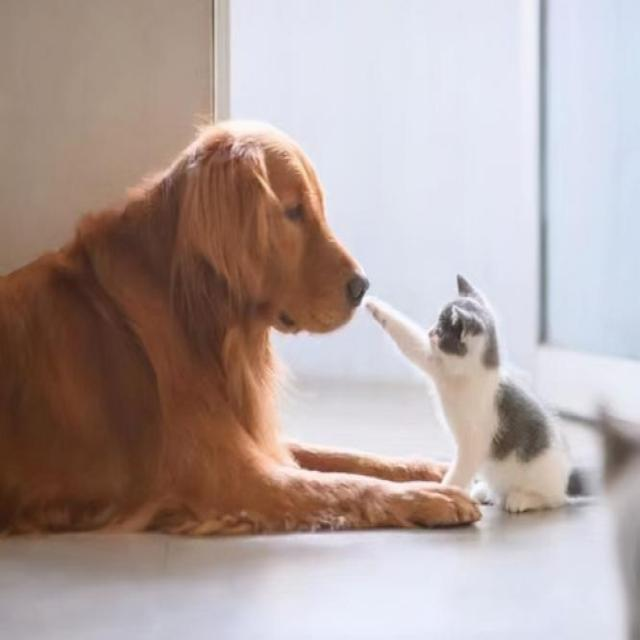cat: (370, 258, 625, 536)
dog: (4, 112, 368, 594)
